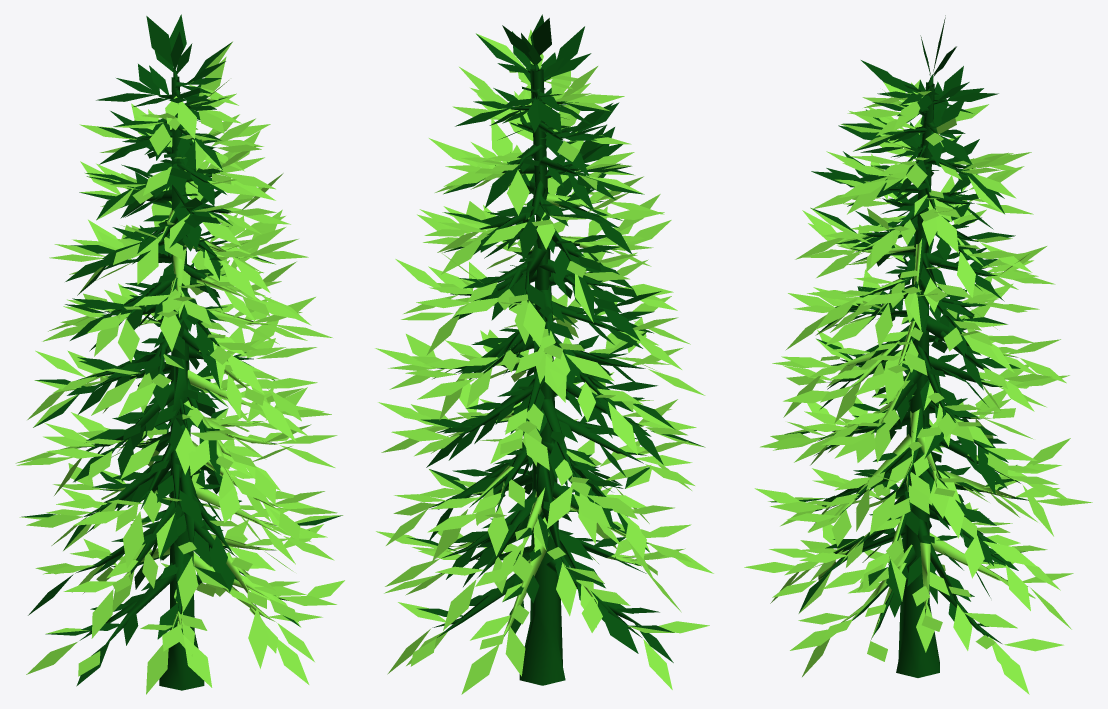
File: tree6.fbx
3 renders of one model, left to right at view 1: azimuth 30°, elevation 25°; view 2: azimuth 150°, elevation 25°; view 3: azimuth 270°, elevation 25°, orthographic. The views are drawn at different scales.
Visible parts, largest first — view 1: tree6; view 2: tree6; view 3: tree6.
Boxes of the visible parts, x1=… form: tree6: x1=15, y1=14, x2=344, y2=694; tree6: x1=375, y1=14, x2=713, y2=694; tree6: x1=744, y1=15, x2=1092, y2=694.
Size of the model in its own units: 1269 by 2711 by 1336.
